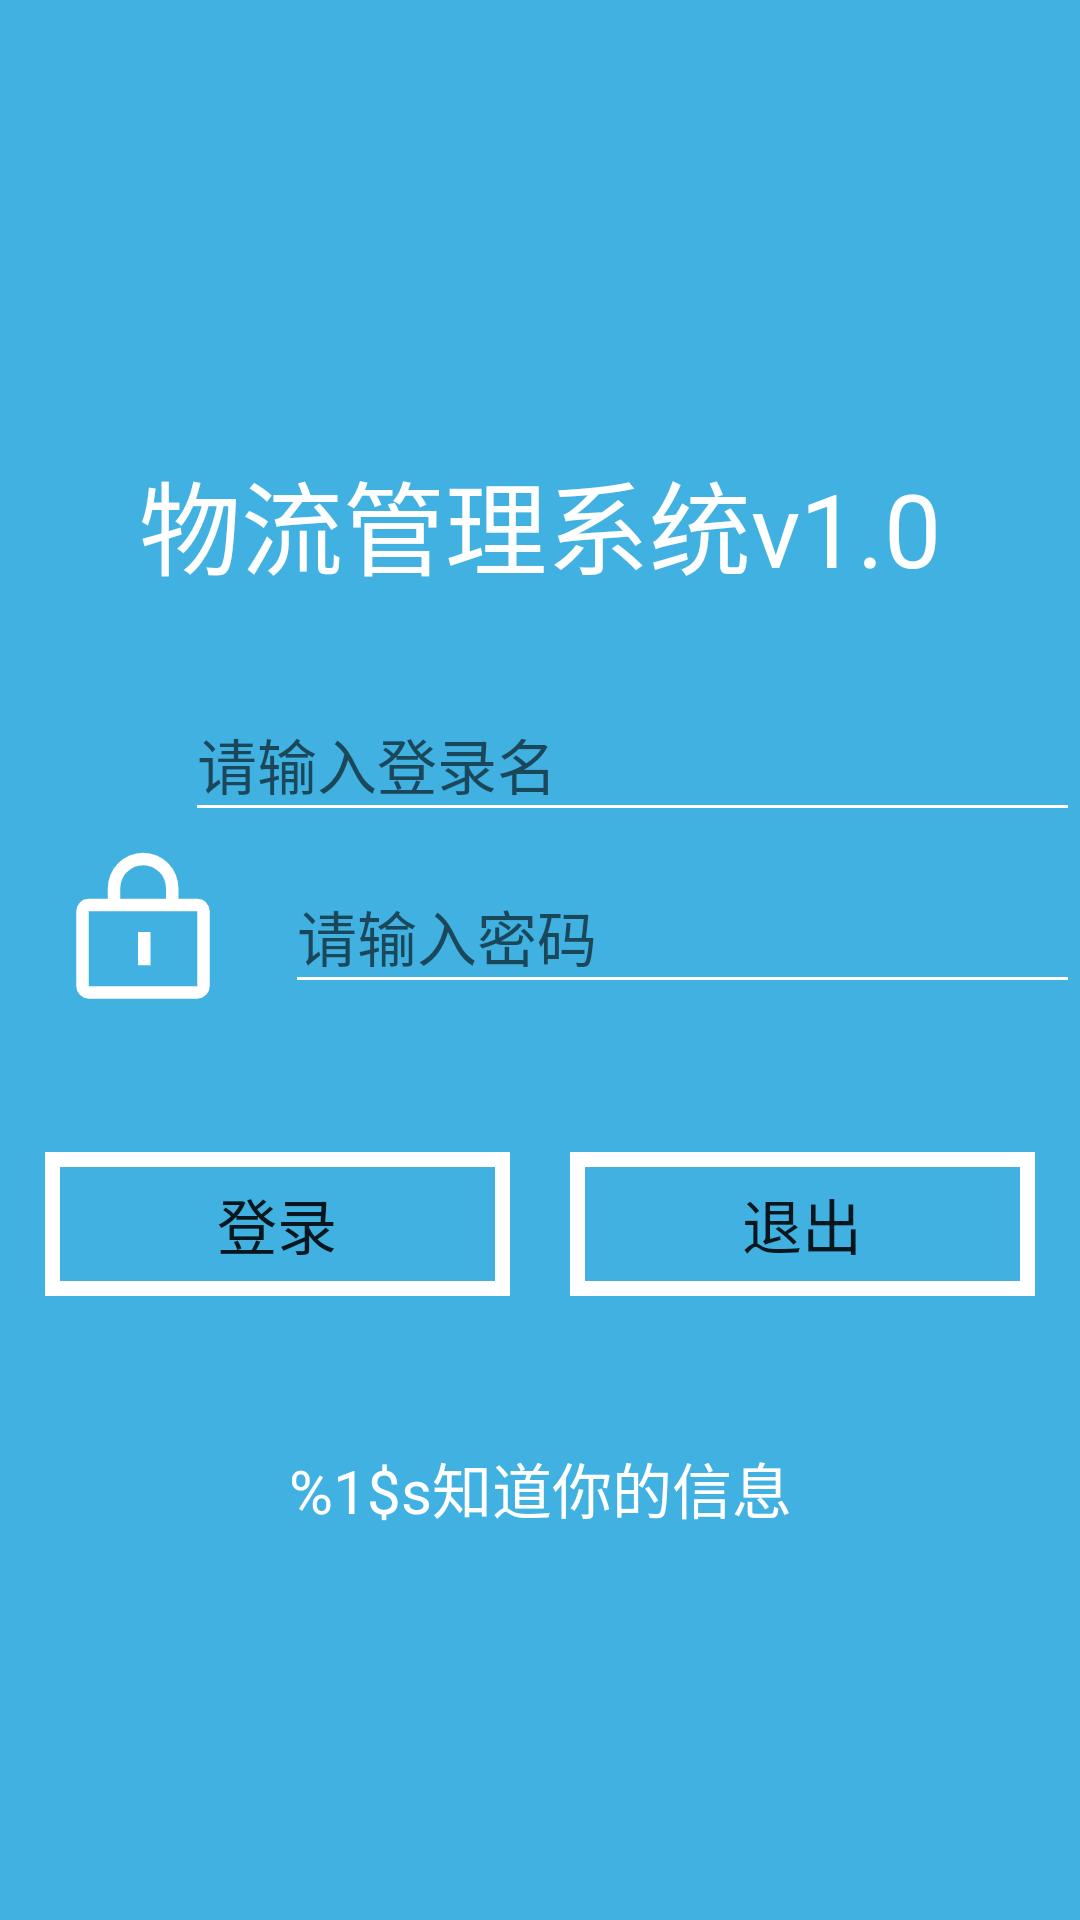

Icon bounding boxes for this 1080x1920 phone screenshot, format (x1, y1, x2, y2):
密码图标: (76, 852, 210, 999)
